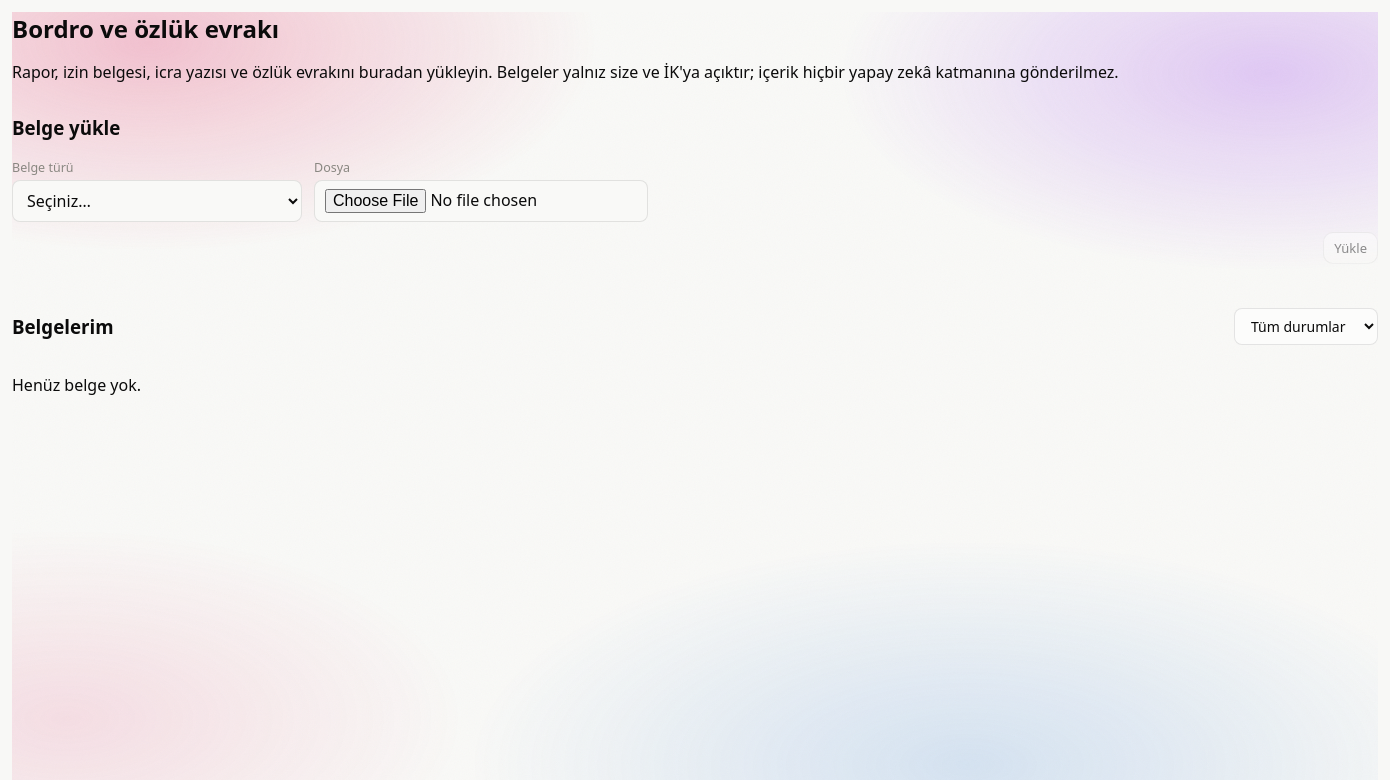
Test: yükleme formu türe göre şekilleniyor › izin kategorisi seçilince ilgili izin kaydı seçicisi çıkar
The image size is (1390, 780).
Select "İstirahat raporu (iş göremezlik)" in the dropdown labelled "Belge türü": (157, 201) x1=12 y1=180 x2=302 y2=222
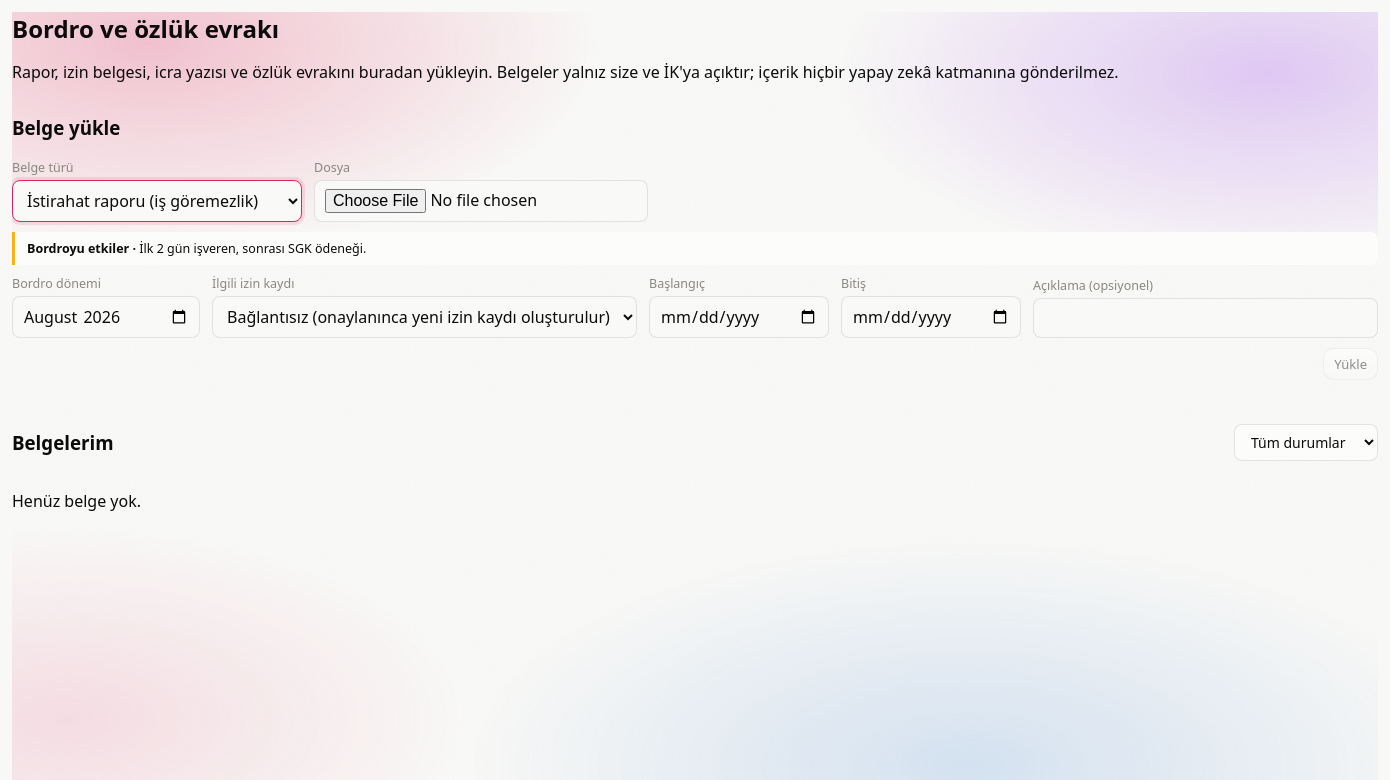
Now the dropdown labelled "İlgili izin kaydı" is shown, box x1=212 y1=296 x2=637 y2=338
Note: "İzin dışı" bir tür seçiliyken bu alan görünmemeli.
Select "İcra / maaş haczi müzekkeresi" in the dropdown labelled "Belge türü": (157, 201) x1=12 y1=180 x2=302 y2=222
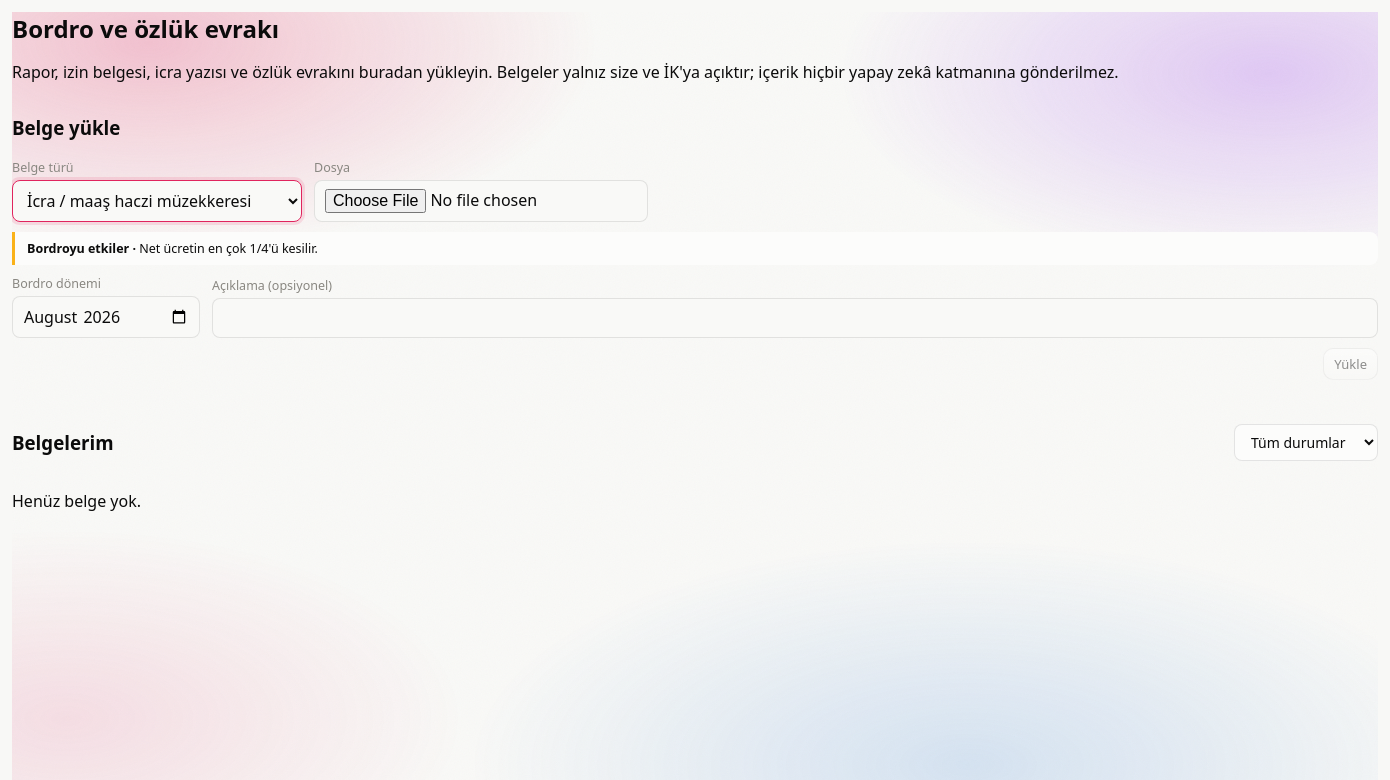
Now the text labelled "İlgili izin kaydı" is gone
